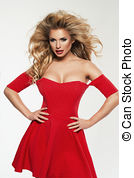face: (45, 19, 75, 60)
